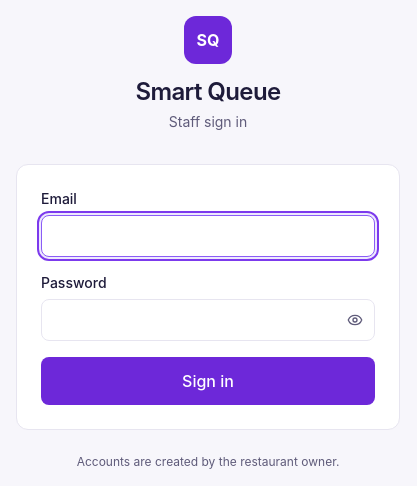
Scenario: Login show-password toggle › hides the password by default and reveals it on demand
Type "12345678" into the password field labelled "Password" at (208, 320), box [41, 299, 375, 341]
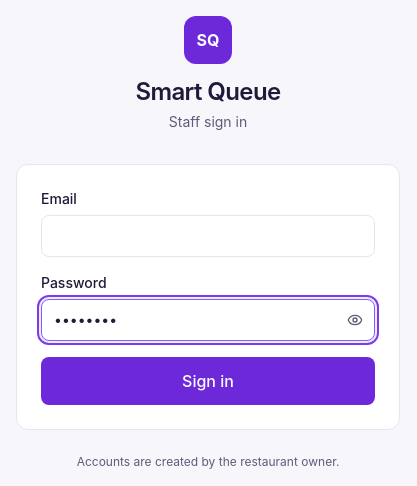
Click the button named "Show password" at (355, 320), box [335, 299, 375, 341]
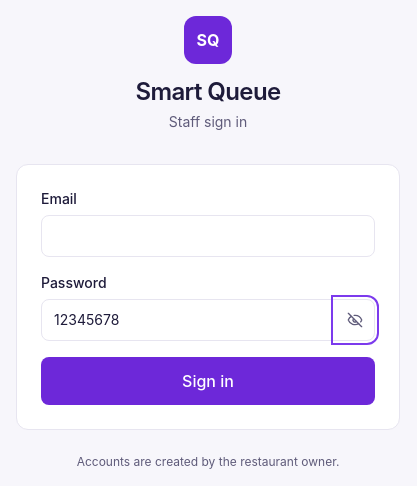
expect the field labelled "Password" shows its text: met, box [41, 299, 375, 341]
Click the button named "Hide password" at (355, 320), box [335, 299, 375, 341]
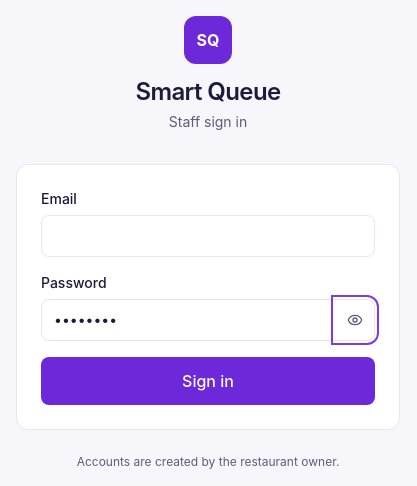
expect the password field labelled "Password" hides its text: met, box [41, 299, 375, 341]
